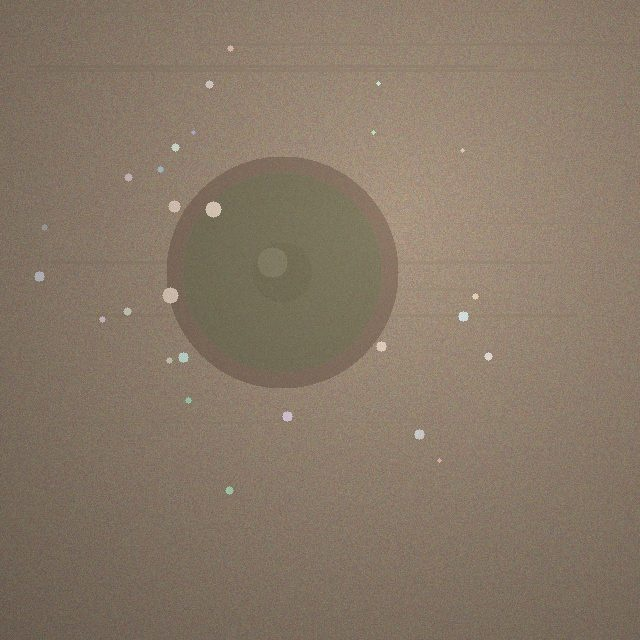overburn: (166, 156, 398, 388)
